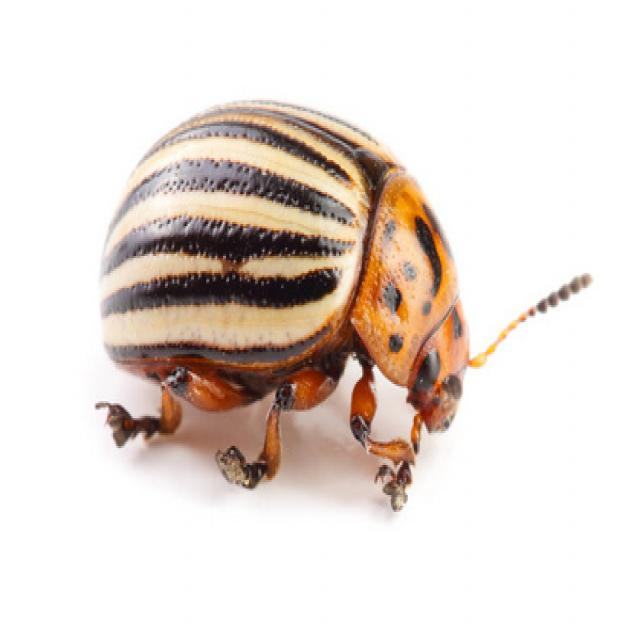ShuCaiHuaBanChong-Grown-: (72, 80, 465, 480)
